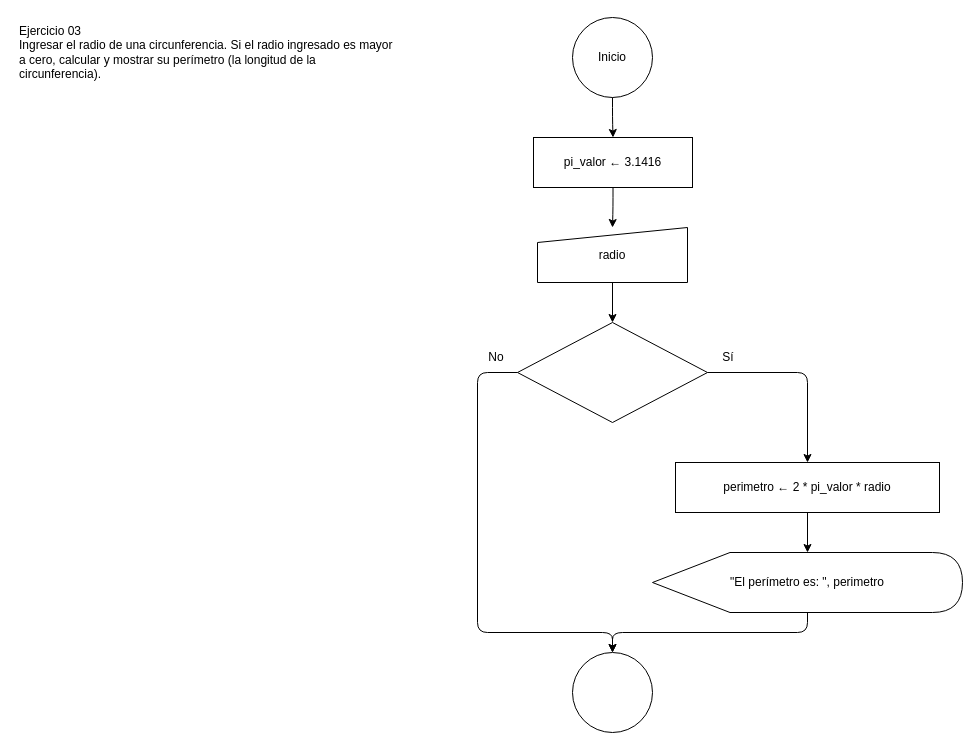
Some shapes in this 980 by 750 pixel diagram are drawn without their labels. Here are the shapes that lost their labels. From the top down, the box of each, then its label:
(516, 322, 708, 422): radio > 0
(572, 652, 652, 732): Fin
